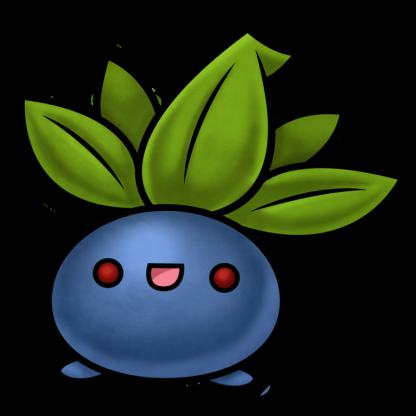Oddish: (19, 32, 402, 390)
